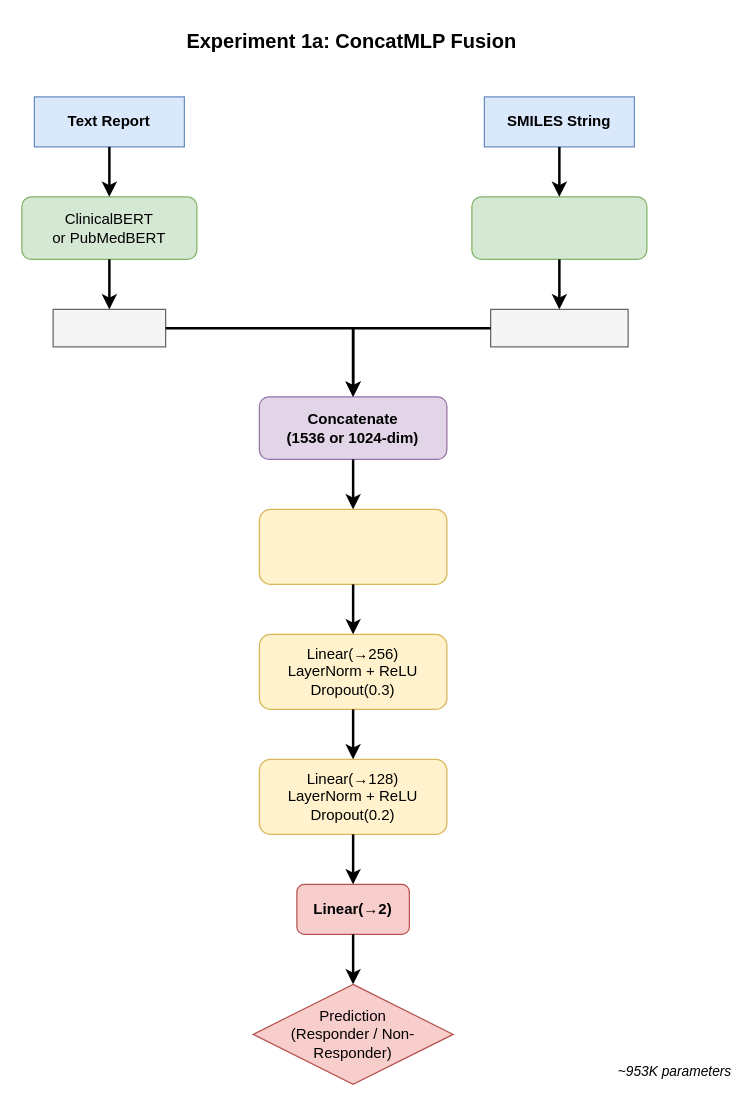
This 756x1106 diagram has some shape labels left out. The centre of each missing label's shape, as x and y in pixels:
[768 or 256-dim]: the point at 558,327
[768-dim]: the point at 109,327
ChemBERTa or SMILES-Trf: the point at 559,227
Linear(→512) LayerNorm + ReLU Dropout(0.3): the point at 352,546
